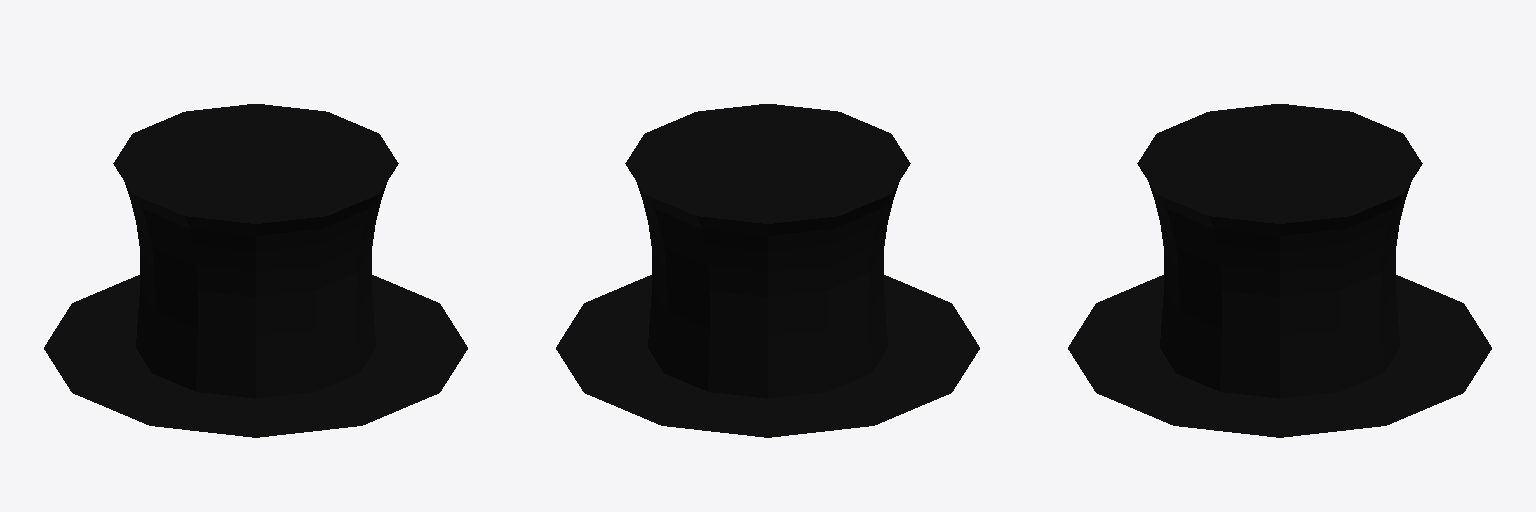
The model's file is Hat.obj.
The picture shows the model from 3 angles: view 1: azimuth 30°, elevation 25°; view 2: azimuth 150°, elevation 25°; view 3: azimuth 270°, elevation 25°; orthographic projection.
Parts seen in each view (by area): view 1: Circle; view 2: Circle; view 3: Circle.
Boxes of the visible parts, <box> form: Circle: <box>44,104,467,437</box>; Circle: <box>556,104,979,437</box>; Circle: <box>1068,104,1491,437</box>.
Size of the model in its own units: 4.76 by 2.28 by 4.76.